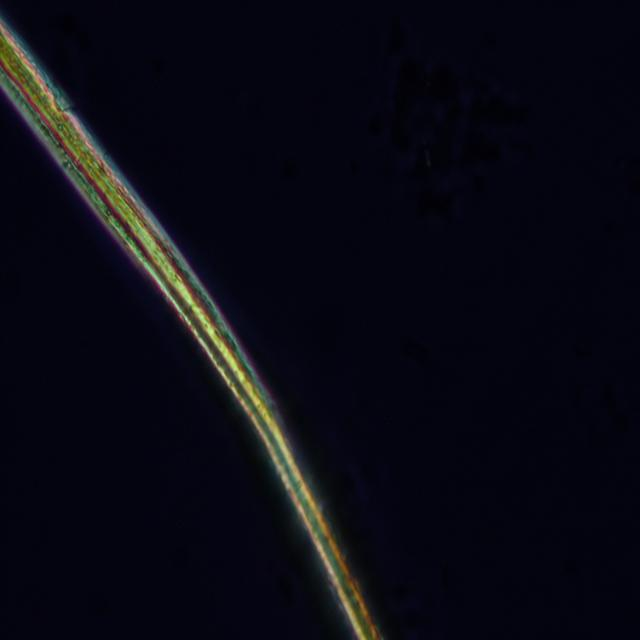Microfibre: (0, 20, 373, 640)
